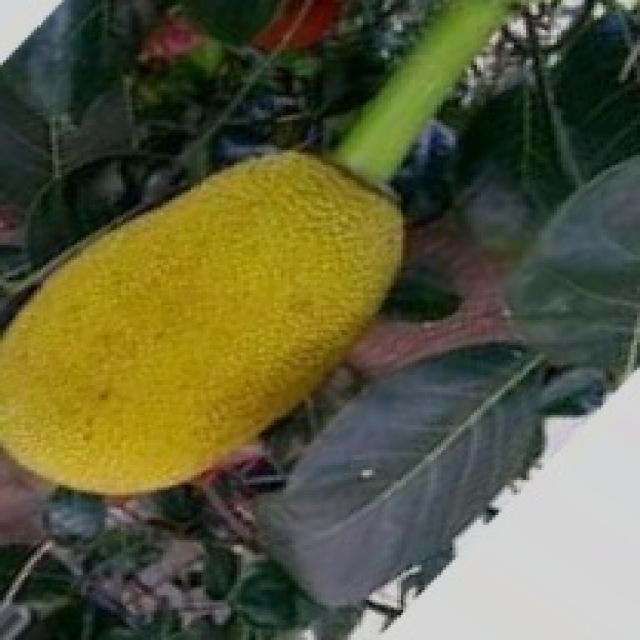Fruit: (0, 120, 431, 505)
